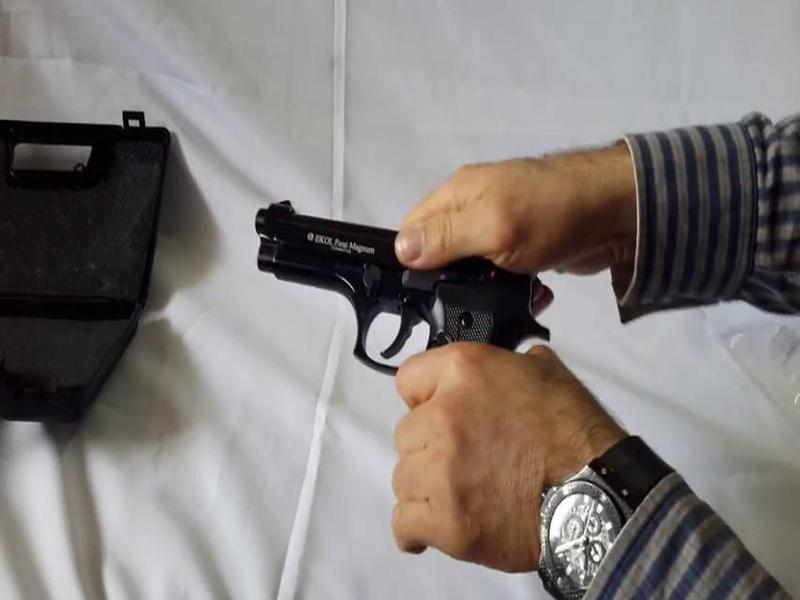Pistola: (226, 179, 563, 453)
